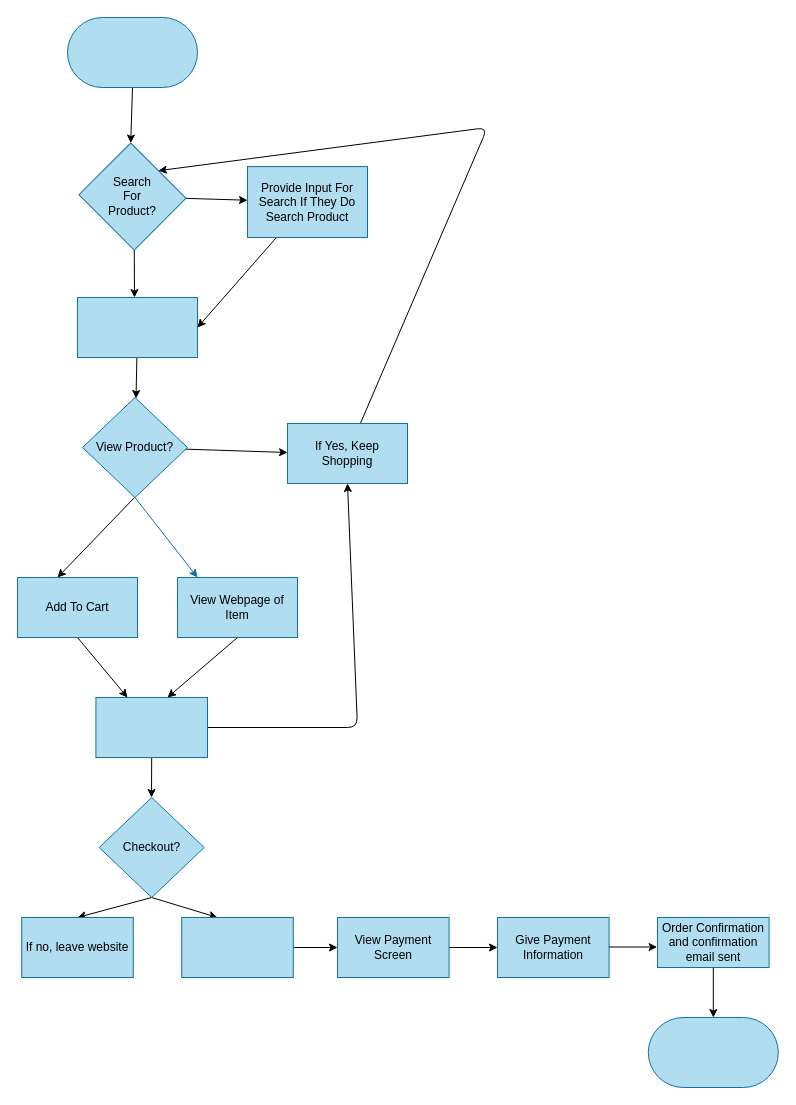
Some shapes in this 796 by 1105 pixel diagram are drawn without their labels. The shapes that lost their labels are listed below. From the top down, each one's centre as x and y in pixels, then its label:
At [132,52]: "User Enters the Program".
At [137,327]: "User Looks Over Products".
At [151,727]: "Continue Shopping?".
At [237,947]: "If yes, checkout and post view cart screen".
At [712,1052]: "User Leaves Website".
